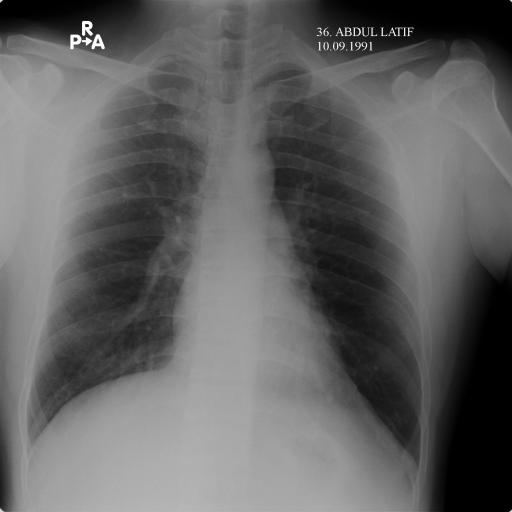normal: (16, 24, 430, 486)
